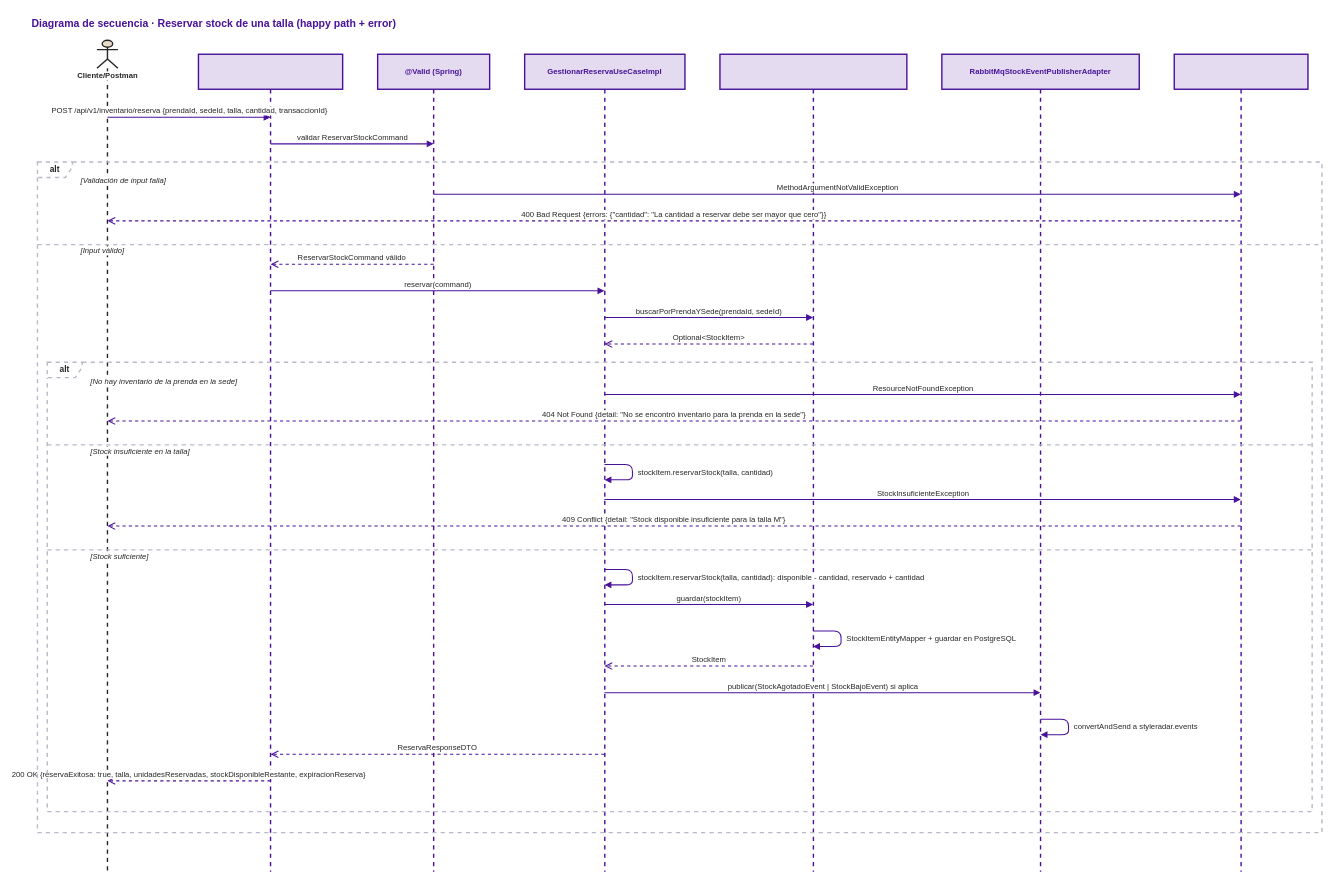
Image size: 1341x884. Some labels were removed from this diagram. Each missing label, with the box of its shape:
GlobalExceptionHandler: (1173, 53, 1308, 872)
InventarioRestController: (197, 53, 343, 872)
PostgreSqlStockRepositoryAdapter: (719, 53, 907, 872)
